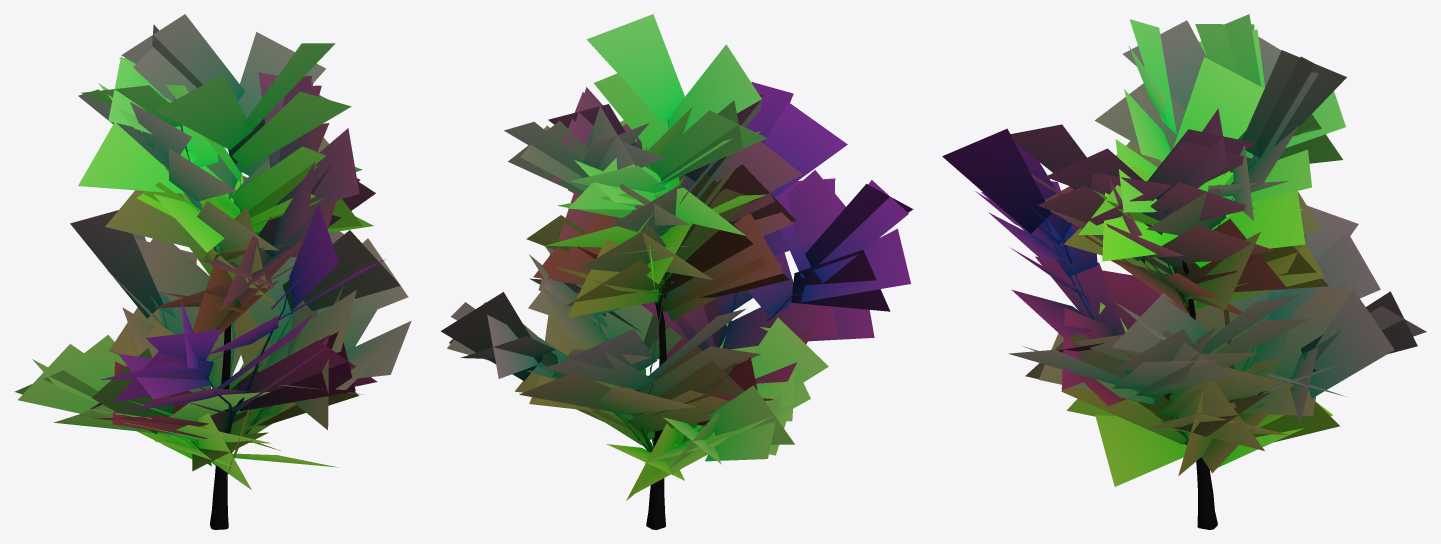
The model's file is M_Realistic21_14.fbx.
The picture shows the model from 3 angles, left to right: view 1: azimuth 30°, elevation 25°; view 2: azimuth 150°, elevation 25°; view 3: azimuth 270°, elevation 25°; orthographic projection. The views are drawn at different scales.
Parts seen in each view (by area): view 1: Tree_14; view 2: Tree_14; view 3: Tree_14.
Boxes of the visible parts, bbox=[...] form: Tree_14: bbox=[14, 14, 411, 529]; Tree_14: bbox=[441, 14, 913, 529]; Tree_14: bbox=[942, 14, 1426, 529].
Bounding box in the file's own units: 1079 × 1406 × 1231.
